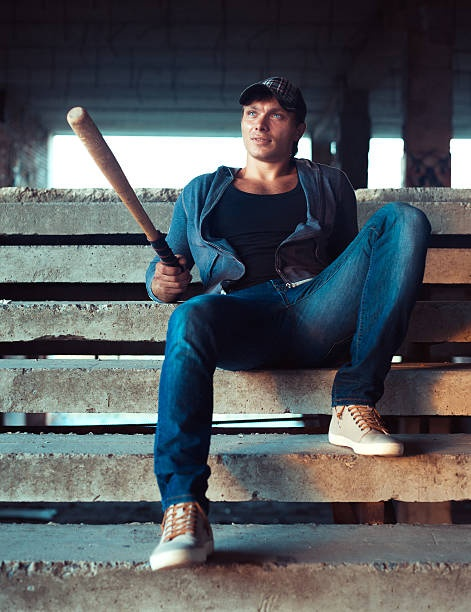bita: (70, 106, 178, 299)
